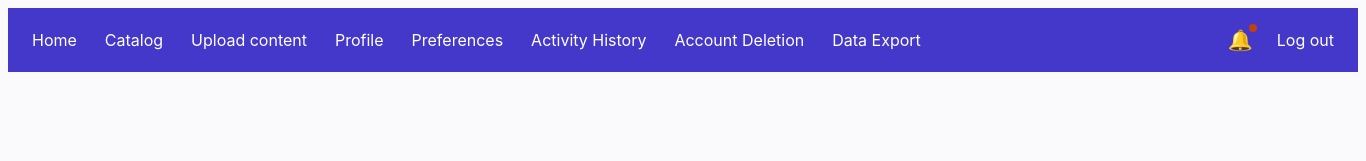
AppHeader › clicking the bell opens a panel listing notifications
Click the button named "notifications".
click(1240, 40)  # box [1220,20,1261,60]
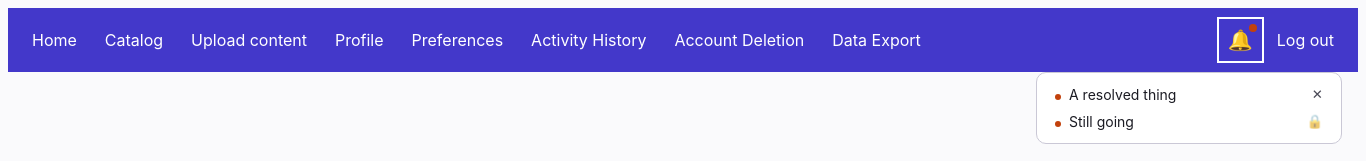
Result: the button "A resolved thing" is shown at [1049,85,1298,104]
Result: the button "Still going" is shown at [1049,112,1292,131]
